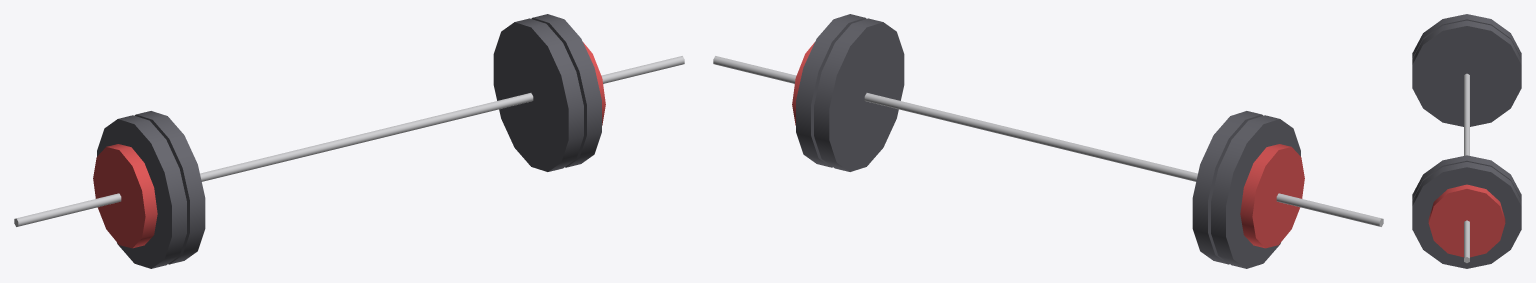
The model's file is barbell.glb.
3 views of the same model, side by side, from view 1: azimuth 30°, elevation 25°; view 2: azimuth 150°, elevation 25°; view 3: azimuth 270°, elevation 25° (orthographic). The views are drawn at different scales.
Parts seen in each view (by area): view 1: Barbell; view 2: Barbell; view 3: Barbell.
Boxes of the visible parts, x1=… form: Barbell: x1=14, y1=14, x2=684, y2=268; Barbell: x1=713, y1=14, x2=1383, y2=268; Barbell: x1=1412, y1=14, x2=1521, y2=268.
Size of the model in its own units: 2.2 by 0.44 by 0.429.
